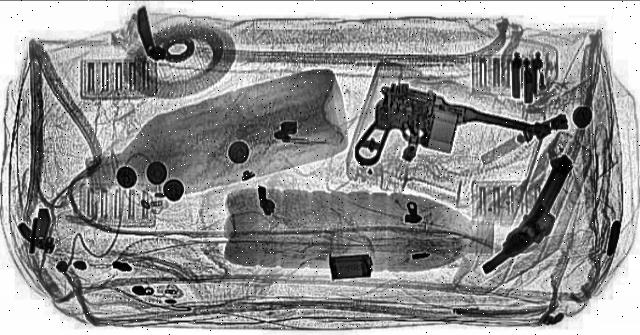Gun: (326, 80, 566, 190), (482, 153, 588, 275)
